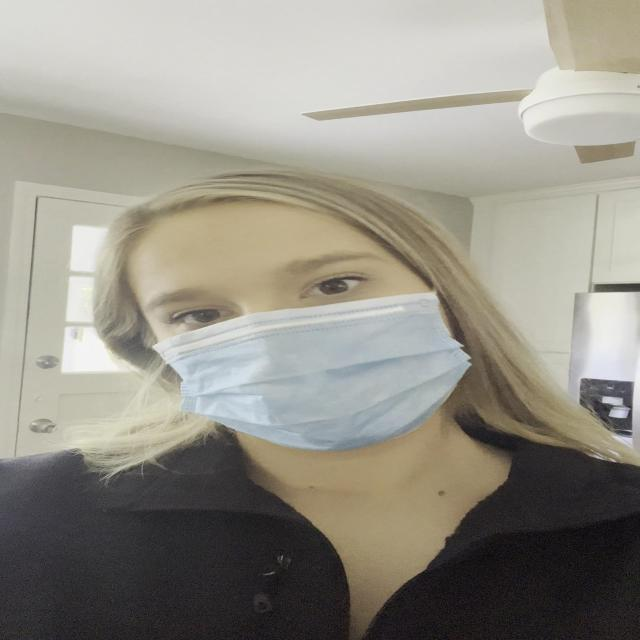no-helmet: (125, 199, 468, 451)
